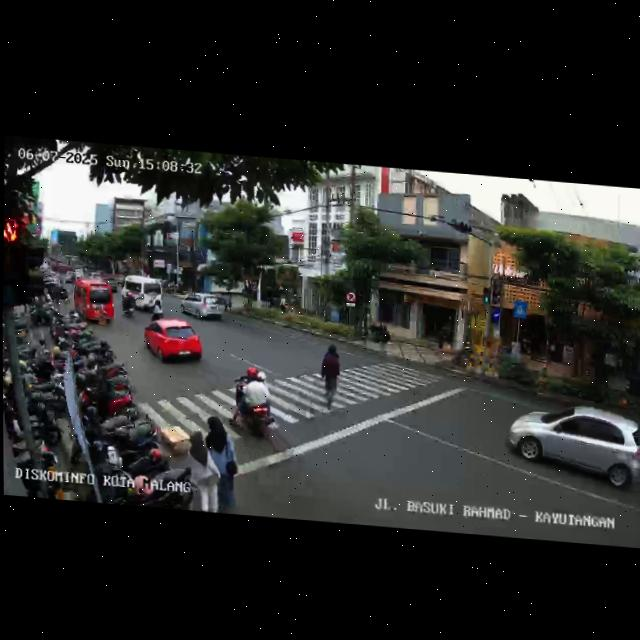car: (505, 398, 640, 495), (141, 314, 202, 370), (67, 274, 114, 326), (120, 274, 163, 312), (180, 290, 226, 324)
motorcycle: (231, 368, 277, 443), (121, 288, 137, 318), (151, 295, 163, 321)
person: (204, 410, 239, 507), (185, 430, 221, 512), (317, 344, 343, 411)
